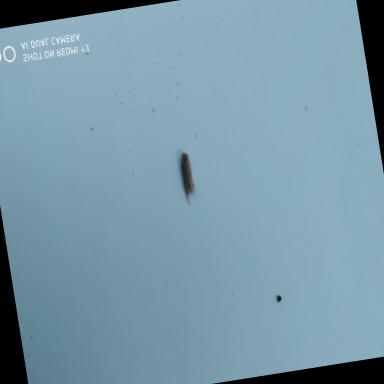pbw: (176, 149, 198, 201)
